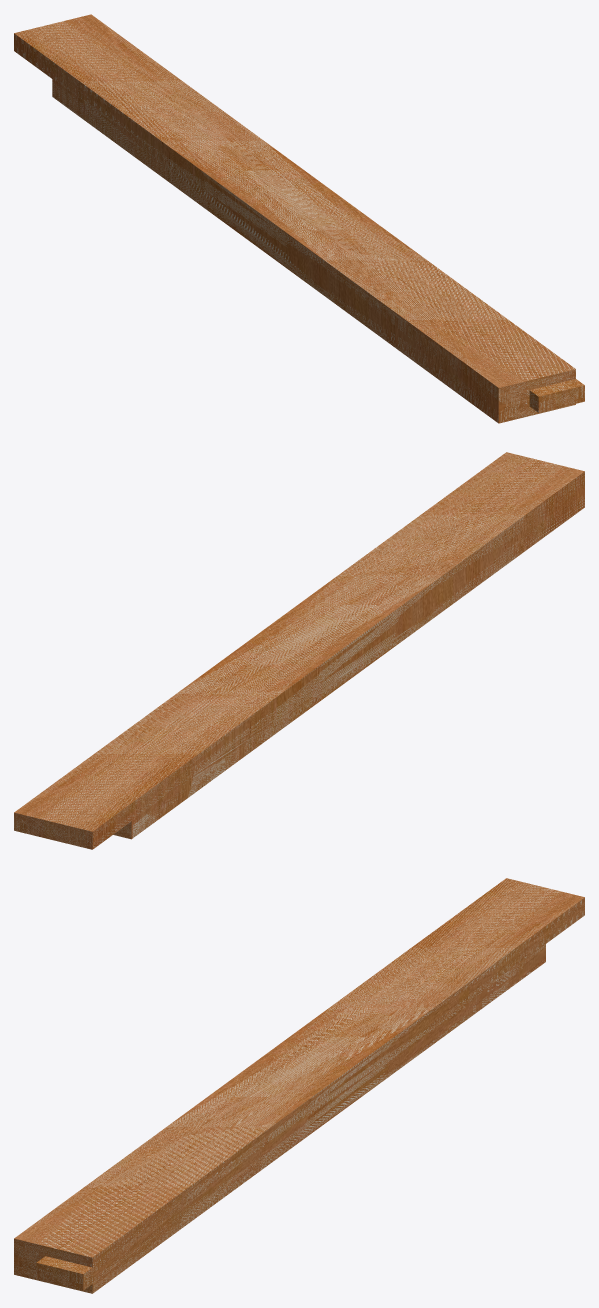
The model's file is original-14.obj.
3 renders of one model, top to bottom at view 1: azimuth 30°, elevation 25°; view 2: azimuth 150°, elevation 25°; view 3: azimuth 330°, elevation 25°, orthographic.
Visible parts, largest first — view 1: Runner1/Runner/mesh14/mesh14-geometry#mesh14-geometry; view 2: Runner1/Runner/mesh14/mesh14-geometry#mesh14-geometry; view 3: Runner1/Runner/mesh14/mesh14-geometry#mesh14-geometry.
Boxes of the visible parts, bbox=[...] form: Runner1/Runner/mesh14/mesh14-geometry#mesh14-geometry: bbox=[14, 14, 584, 423]; Runner1/Runner/mesh14/mesh14-geometry#mesh14-geometry: bbox=[14, 452, 584, 849]; Runner1/Runner/mesh14/mesh14-geometry#mesh14-geometry: bbox=[14, 878, 584, 1293].
Size of the model in its own units: 0.0525 by 0.0231 by 0.5808.
2 materials, 1 textured.
